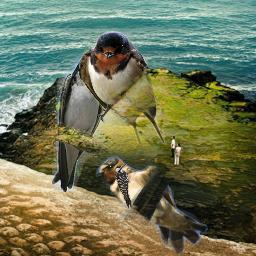Swallow: (96, 156, 208, 255), (79, 31, 165, 144), (52, 52, 113, 192)
Woodpecker: (115, 164, 132, 209)
